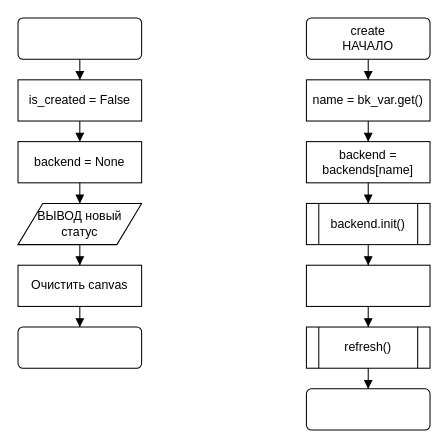
The diagram is 448 pixels wide and 448 high, and some of its shapes have lost their labels. Here are the shapes that lost their labels. From the top down, the centre of each, then its label:
the point at 79,38: on_change_backend НАЧАЛО
the point at 367,285: is_created = True
the point at 79,347: КОНЕЦ on_change_backend
the point at 367,409: КОНЕЦ create
